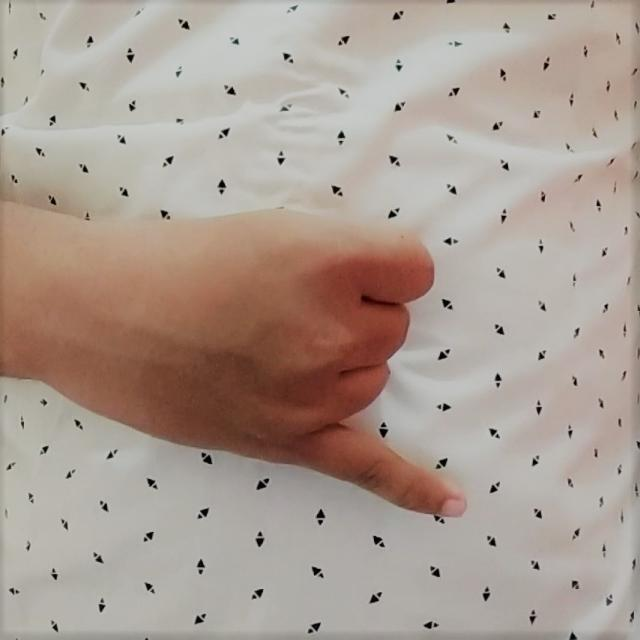J: (63, 196, 475, 532)
